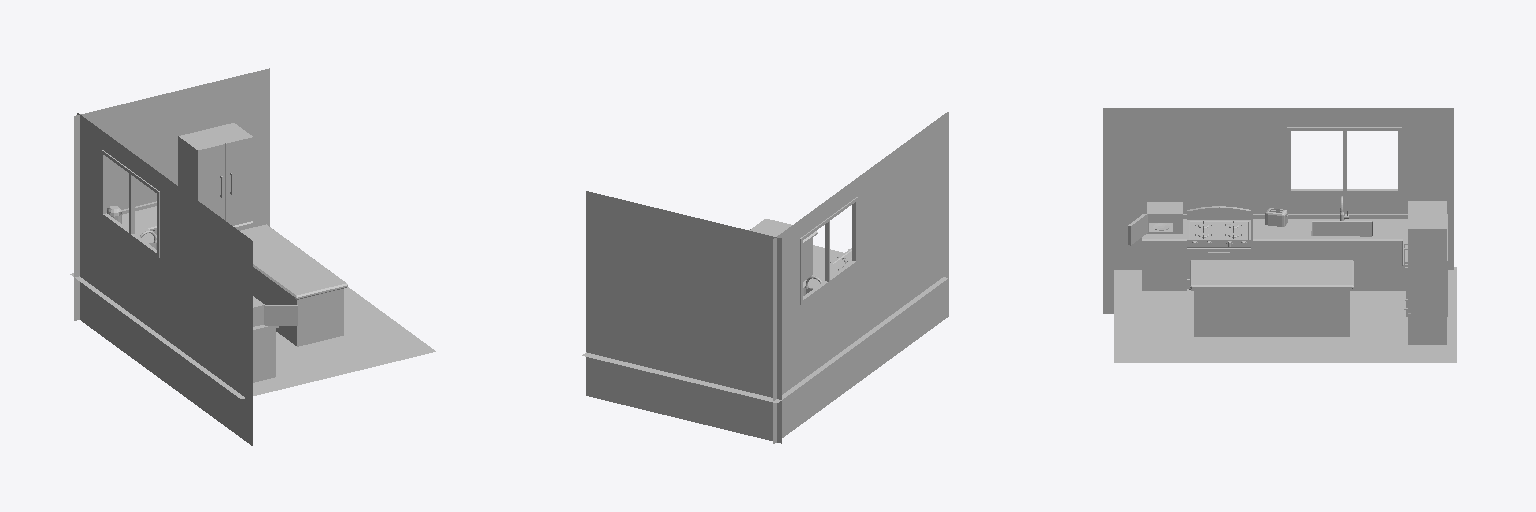
Rendered from kitchenmap8.obj.
The picture shows the model from 3 angles: view 1: azimuth 30°, elevation 25°; view 2: azimuth 150°, elevation 25°; view 3: azimuth 270°, elevation 25°; orthographic projection.
Visible parts, largest first — view 1: Left_Wall, Right_Wall, Floor, Island, Fridge, Window_Frame, Counter_Left, Counter_Corner, Microwave_Door; view 2: Right_Wall, Left_Wall, Floor, Window_Frame, Island; view 3: Left_Wall, Floor, Island, Counter_Corner, Fridge, Oven, Counter_Left, Window_Frame, Microwave, Sink_Basin.
Part boxes in pixels (x1,y1,x2,y2): Left_Wall: (77, 113, 252, 445); Right_Wall: (74, 68, 269, 320); Floor: (70, 273, 435, 398); Island: (240, 224, 347, 346); Fridge: (178, 123, 253, 230); Window_Frame: (101, 150, 159, 257); Counter_Left: (253, 325, 278, 382); Counter_Corner: (121, 201, 156, 242); Microwave_Door: (264, 305, 297, 325); Right_Wall: (586, 191, 781, 443); Left_Wall: (773, 112, 948, 443); Floor: (582, 245, 947, 402); Window_Frame: (800, 197, 857, 304); Island: (749, 219, 817, 281); Left_Wall: (1103, 108, 1453, 313); Floor: (1114, 267, 1456, 362); Island: (1190, 260, 1353, 336); Counter_Corner: (1253, 214, 1447, 316); Fridge: (1408, 201, 1446, 344); Oven: (1187, 206, 1250, 290); Counter_Left: (1142, 214, 1186, 290); Window_Frame: (1287, 127, 1401, 193); Microwave: (1147, 202, 1182, 233); Sink_Basin: (1311, 221, 1372, 236).
Bounding box in the file's own units: 56.58 × 56.6 × 88.43.